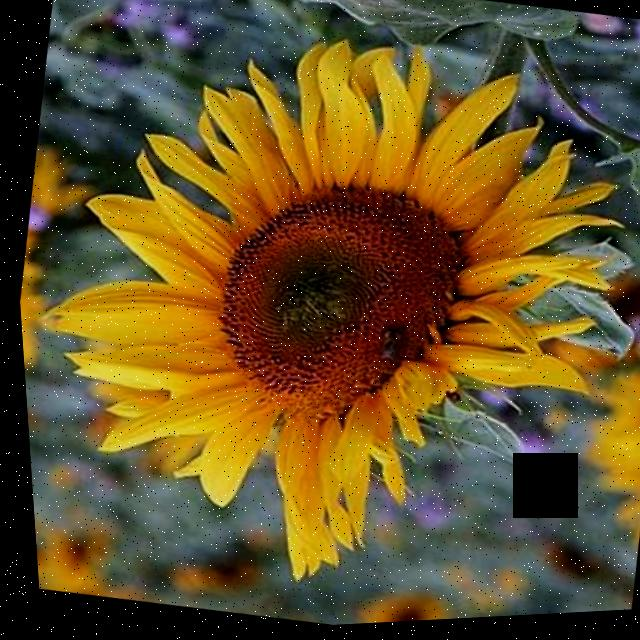sunflower: (0, 0, 601, 617)
